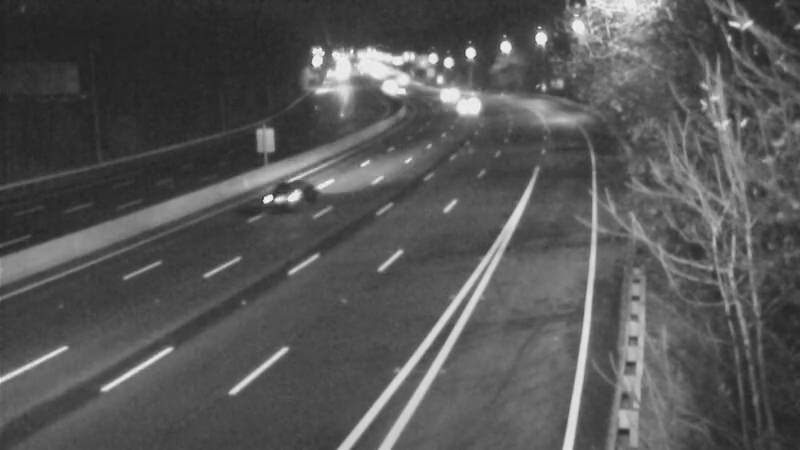vehicle: (255, 154, 335, 234), (379, 70, 429, 120), (414, 71, 464, 121), (440, 78, 490, 128)
